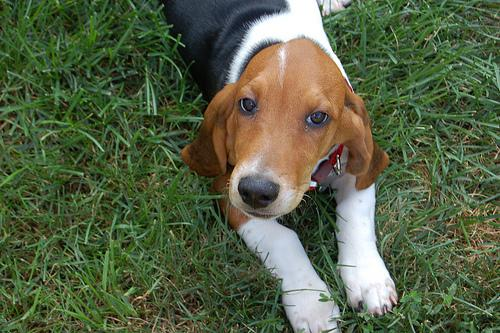dog-basset_hound: (180, 41, 388, 219)
